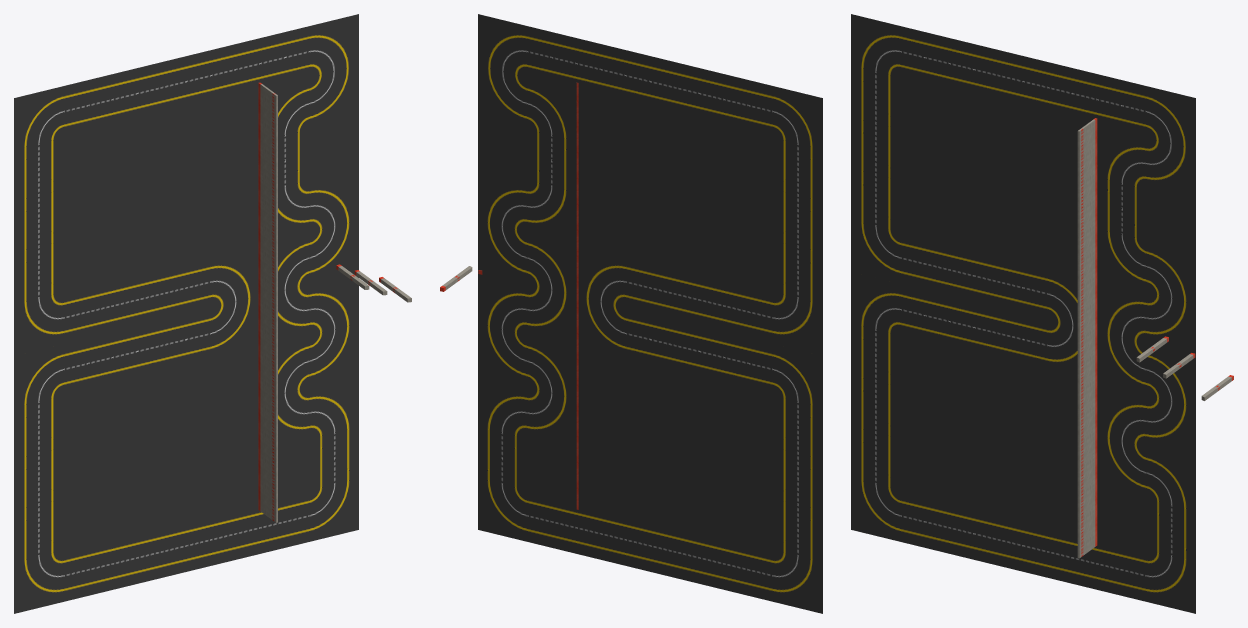
The model's file is tunnel_2wall.obj.
3 renders of one model, left to right at view 1: azimuth 30°, elevation 25°; view 2: azimuth 150°, elevation 25°; view 3: azimuth 330°, elevation 25°, orthographic.
Visible parts, largest first — view 1: Plane, Wall_Cube; view 2: Plane, Wall_Cube; view 3: Plane, Wall_Cube.
Boxes of the visible parts, x1,y1,x2,y2 form: Plane: [14, 14, 358, 613]; Wall_Cube: [258, 82, 277, 522]; Plane: [478, 14, 822, 613]; Wall_Cube: [576, 82, 578, 509]; Plane: [851, 14, 1195, 613]; Wall_Cube: [1077, 118, 1097, 558].
Bounding box in the file's own units: 30.49 × 40 × 5.68.
